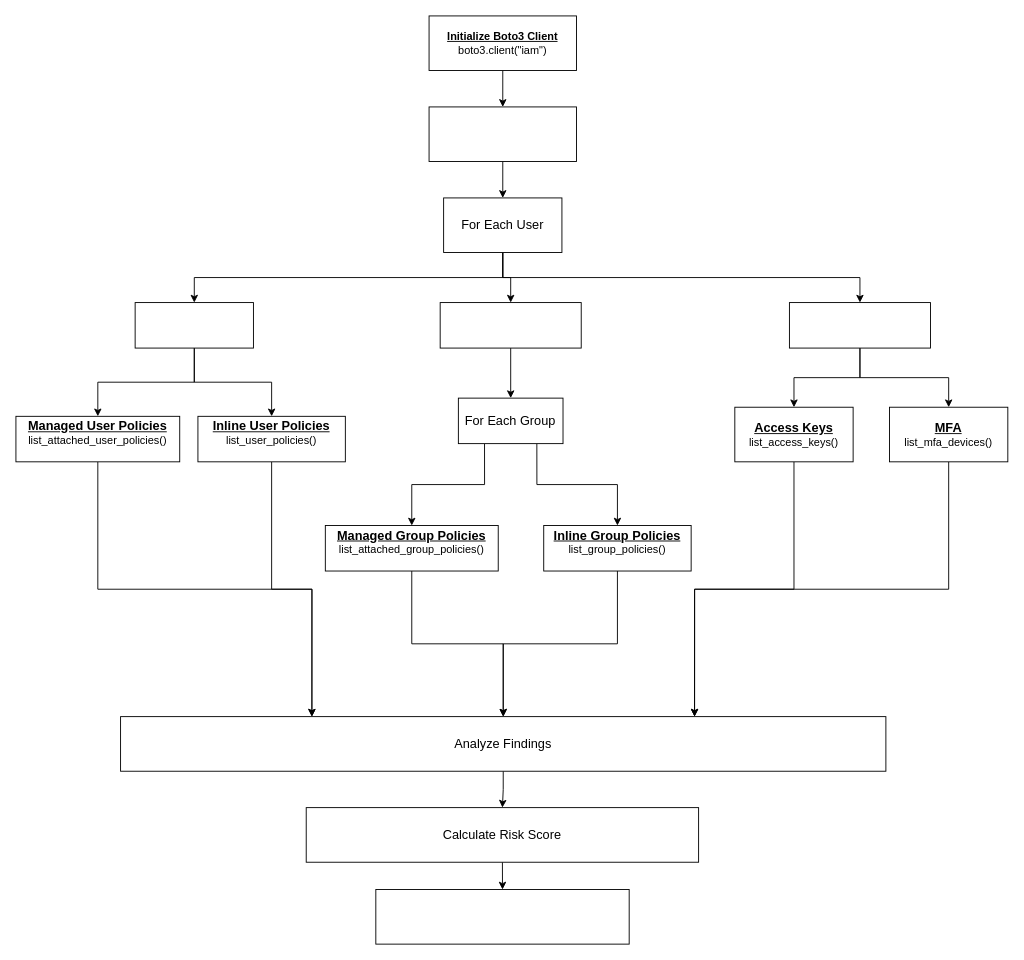
Image size: 1024x960. Some labels were removed from this diagram. The box of each missing label's shape, as (x1, y1, x2, y2) in pixels:
Credential Security: (789, 302, 930, 348)
Generate CSV Report: (375, 889, 629, 944)
Group Policies list_groups_for_user(): (439, 302, 581, 348)
List all IAM Users client.list_users(): (428, 106, 576, 162)
User Policies: (134, 302, 253, 348)
